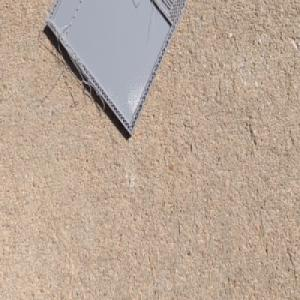PlasticPart: (46, 0, 191, 138)
